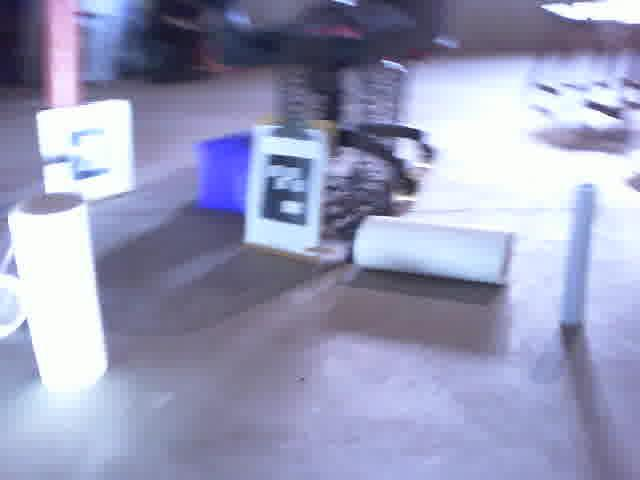coral: (12, 192, 117, 391), (352, 216, 522, 290), (0, 238, 31, 337)
